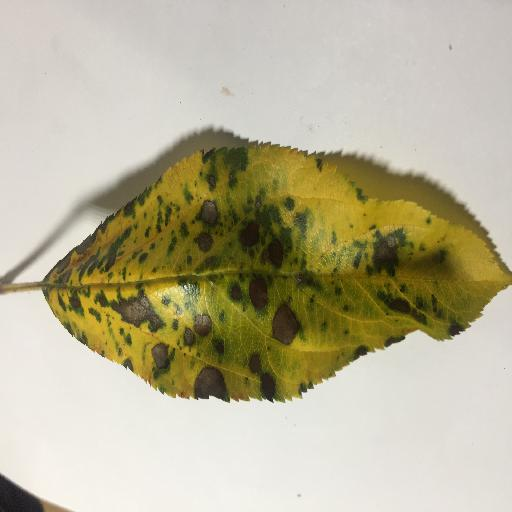Brown_Spot: (249, 354, 283, 403), (262, 305, 303, 345), (112, 299, 161, 326), (364, 241, 394, 279), (197, 372, 227, 401), (152, 342, 173, 372), (196, 196, 217, 220), (194, 315, 212, 339), (254, 278, 267, 305), (198, 236, 212, 250)
